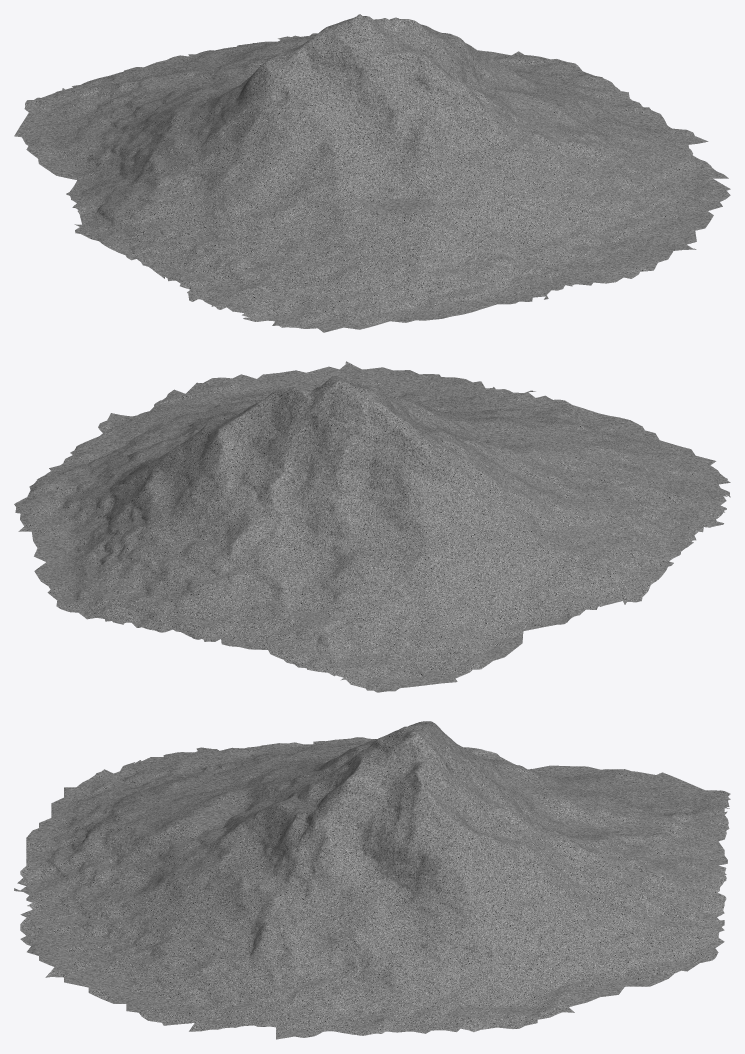
Rendered from ExtraLowCarbon.glb.
The picture shows the model from 3 angles, top to bottom: view 1: azimuth 30°, elevation 25°; view 2: azimuth 150°, elevation 25°; view 3: azimuth 270°, elevation 25°; orthographic projection. The views are drawn at different scales.
Visible parts, largest first — view 1: ECL_PWDER; view 2: ECL_PWDER; view 3: ECL_PWDER.
Part boxes in pixels (bbox=[...]): ECL_PWDER: bbox=[14, 14, 730, 332]; ECL_PWDER: bbox=[14, 361, 730, 692]; ECL_PWDER: bbox=[14, 721, 730, 1039].
Size of the model in its own units: 0.1141 by 0.0286 by 0.1156.
Materials: 1 (1 with a texture image).
